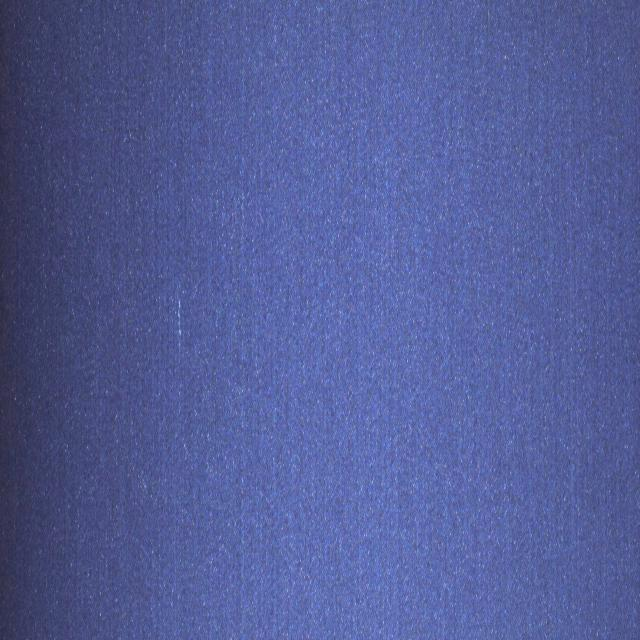pulled_or_thick_thread: (177, 294, 184, 350)
